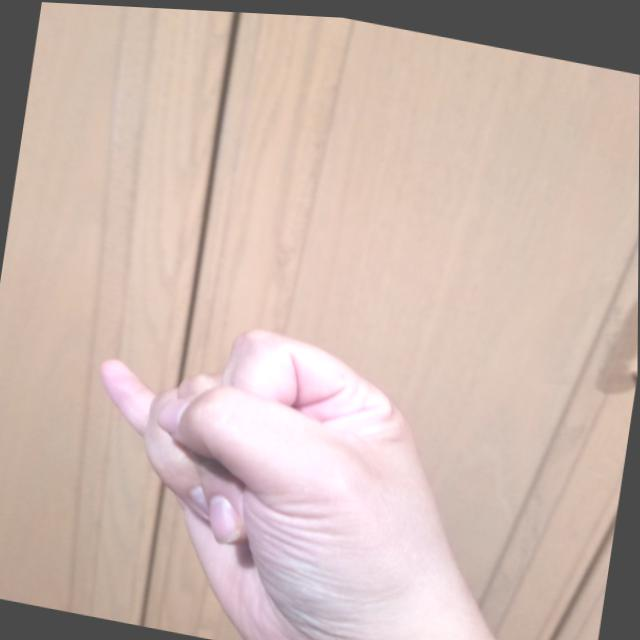J: (55, 289, 513, 639)
